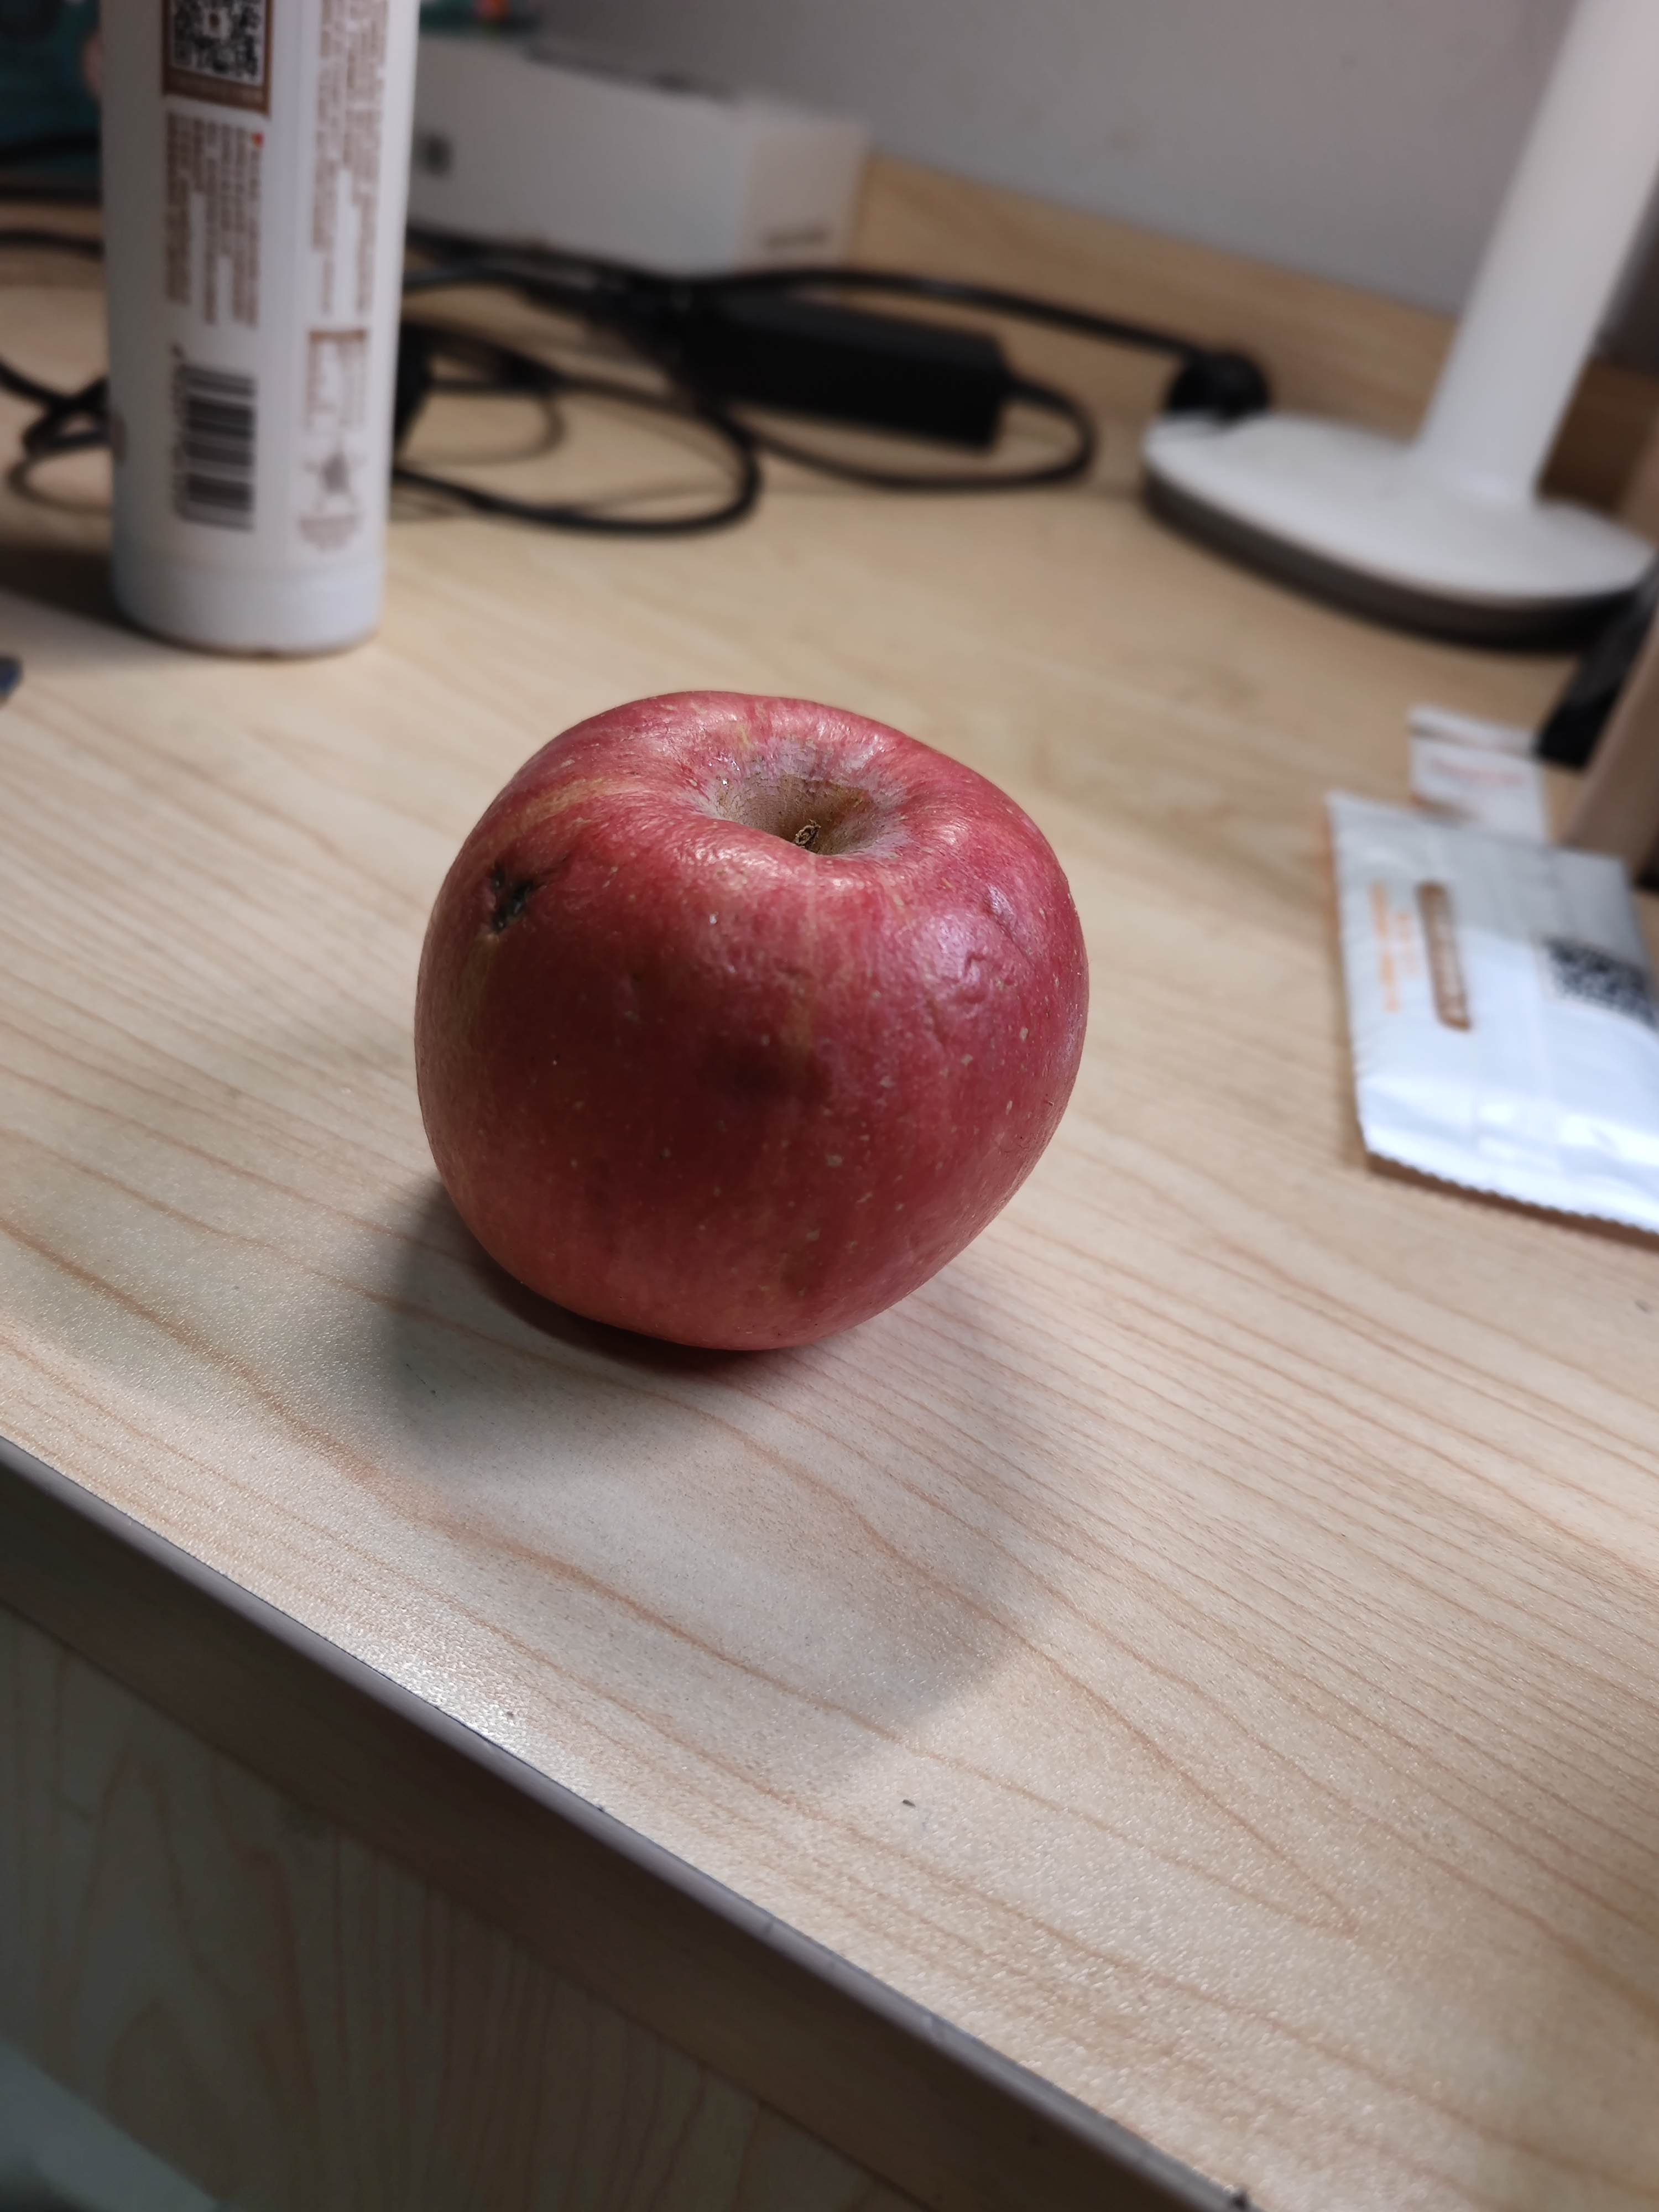apple: (410, 683, 1086, 1366)
